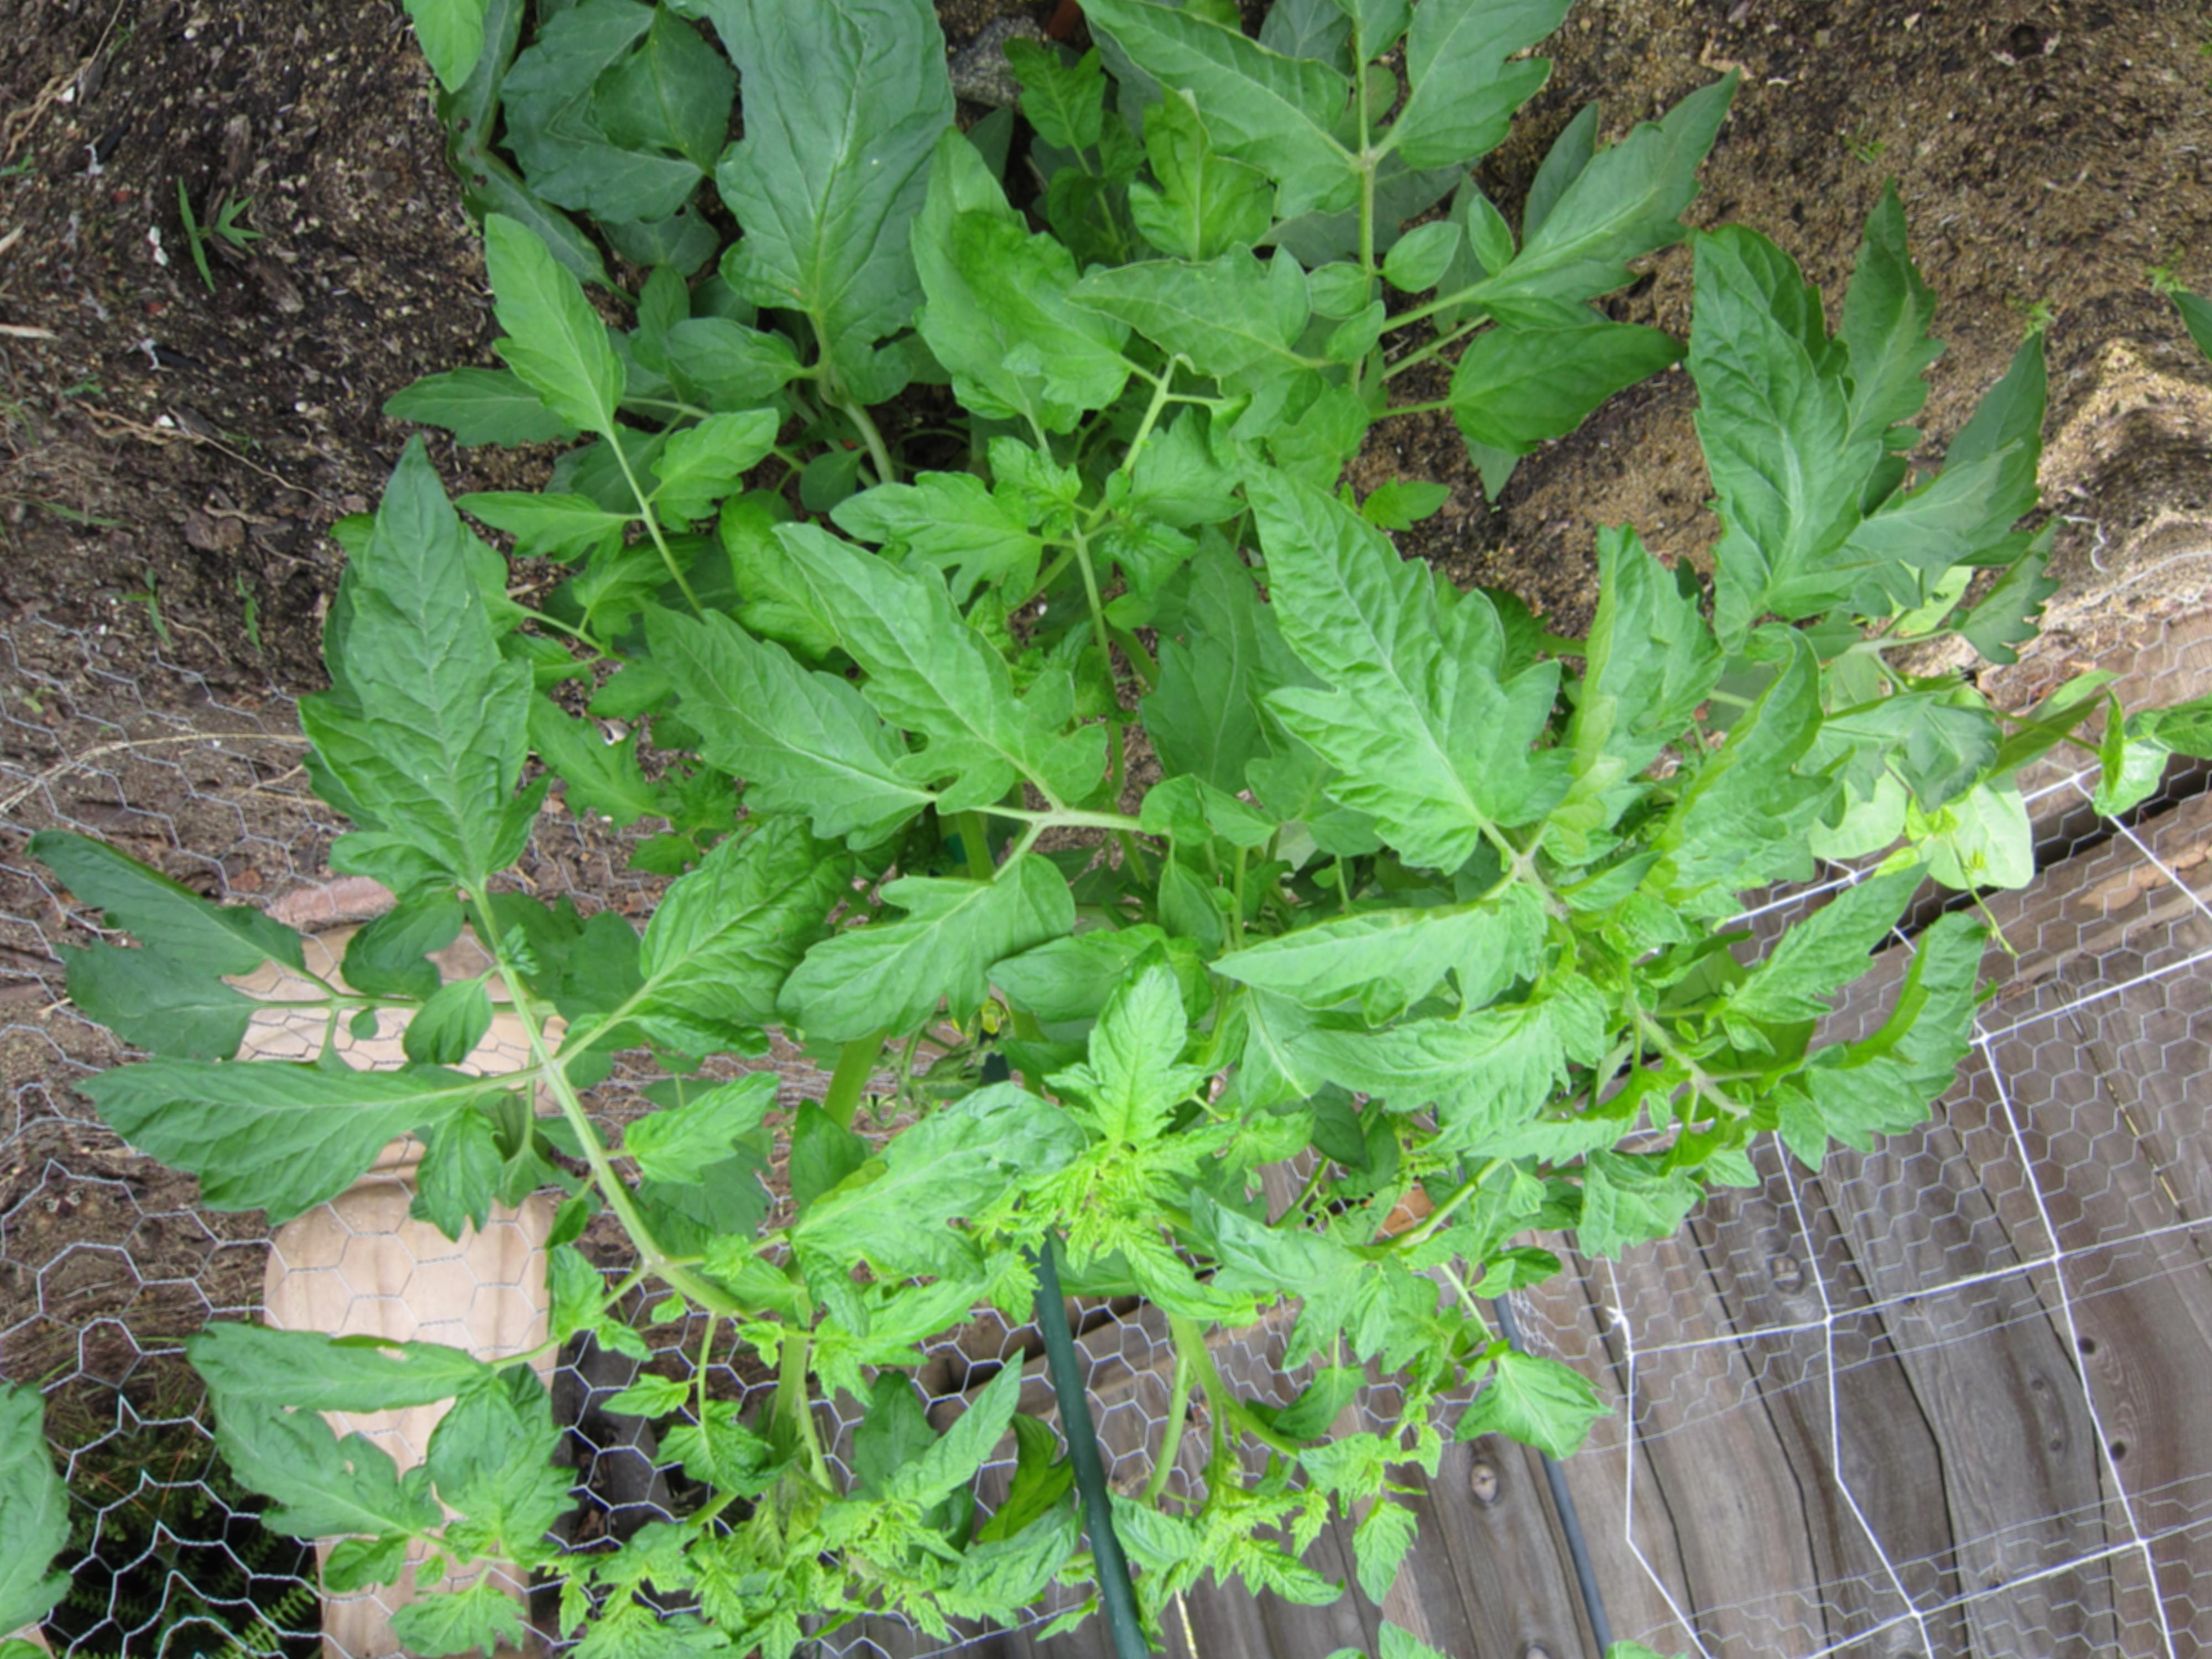Tomato leaf: (235, 374, 599, 910), (1601, 186, 1921, 702), (1214, 430, 1567, 887), (100, 930, 539, 1293), (685, 1056, 1146, 1354), (669, 29, 1014, 404), (622, 538, 944, 916), (1710, 878, 2053, 1203), (1073, 488, 1350, 879), (1291, 906, 1678, 1180), (735, 790, 1109, 1072), (162, 1193, 502, 1493), (1476, 528, 1756, 873), (1200, 805, 1558, 1072), (18, 758, 328, 1064), (758, 459, 1021, 818), (1046, 0, 1395, 270), (1443, 62, 1770, 341), (1794, 344, 2110, 631), (1057, 155, 1368, 444), (922, 147, 1181, 463), (1571, 732, 1888, 972), (1663, 818, 1959, 1072), (776, 389, 1068, 633), (1193, 1150, 1462, 1398), (800, 1314, 1074, 1556), (1334, 0, 1663, 195), (1413, 1018, 1708, 1227), (1408, 270, 1692, 486), (1191, 864, 1523, 1029), (1028, 931, 1232, 1176), (591, 1051, 824, 1208), (1434, 1298, 1625, 1483)
